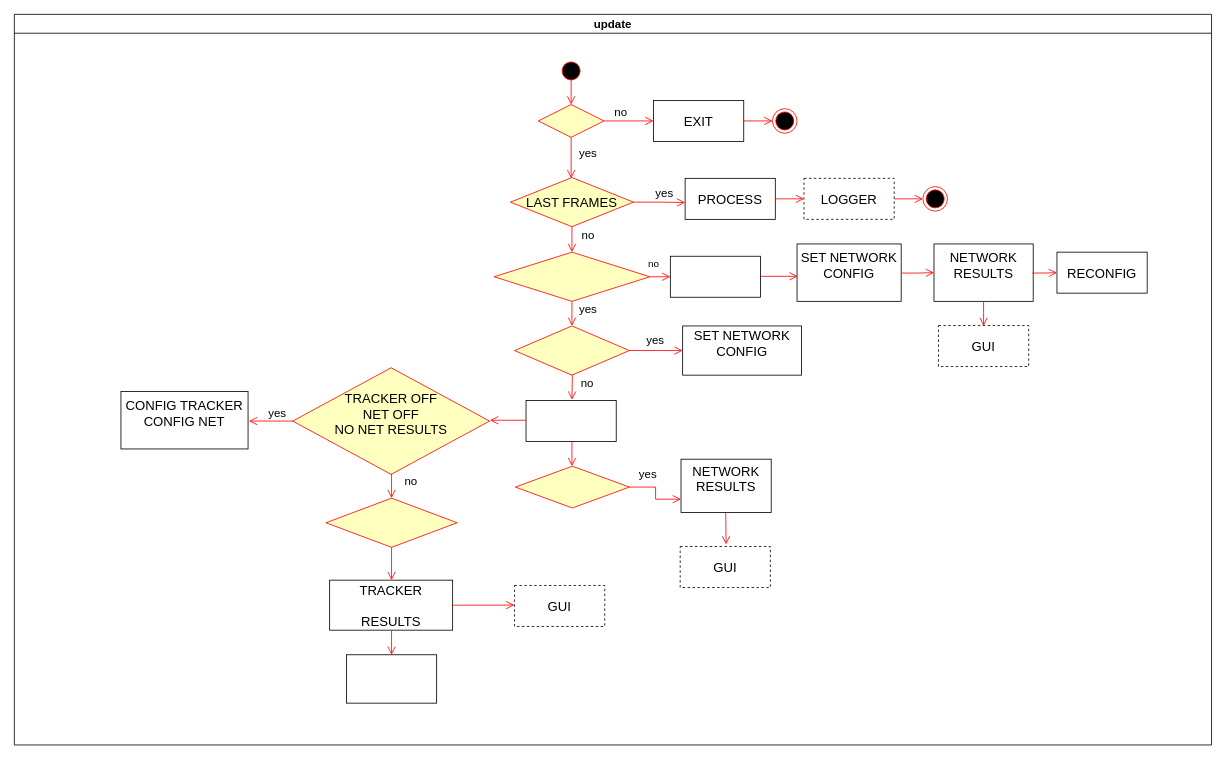
This 1226x759 diagram has some shape labels left out. Each missing label, with the centre of its shape:
CAM: the point at 571,120
CHECK PROGRESS: the point at 391,678
CONTINUOUS MODE: the point at 571,276
FILL BUFFER: the point at 570,421
FIRST FRAME: the point at 571,350
NET RESULT: the point at 572,486
ONCE MODE: the point at 715,276
TRACKER ON: the point at 391,522
